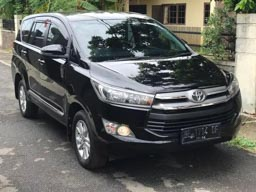plat: (182, 122, 218, 141)
